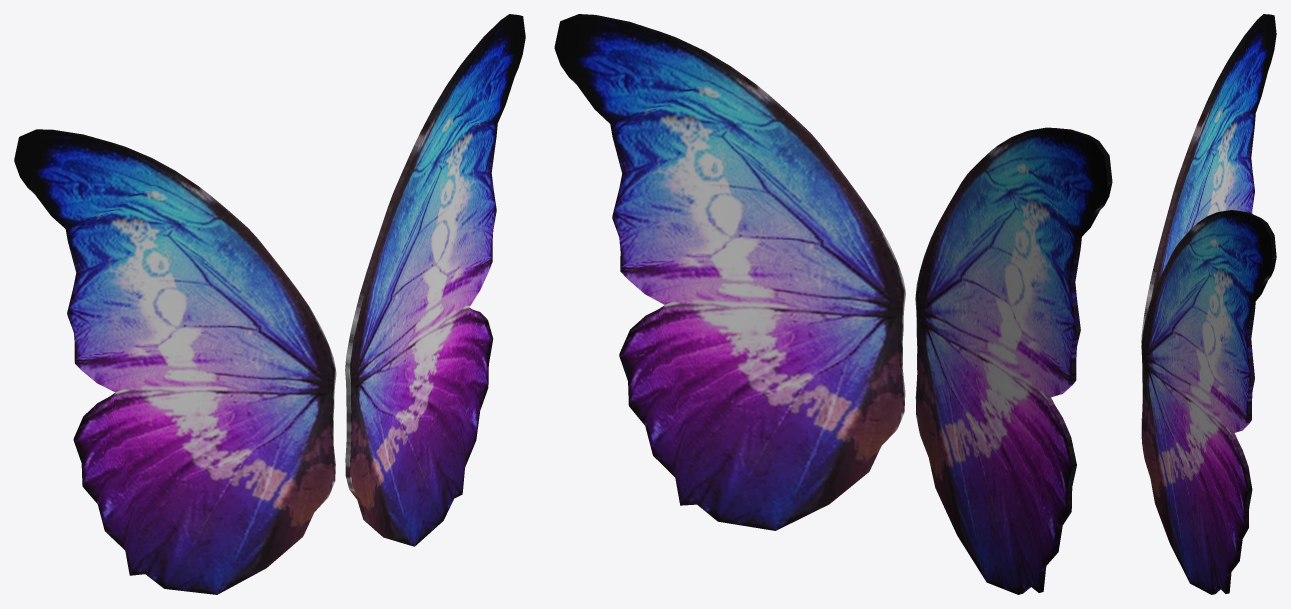
Rendered from Butterfly_Wings_01.fbx.
3 renders of one model, left to right at view 1: azimuth 30°, elevation 25°; view 2: azimuth 150°, elevation 25°; view 3: azimuth 270°, elevation 25°, orthographic. The views are drawn at different scales.
Parts seen in each view (by area): view 1: ButterflyWings; view 2: ButterflyWings; view 3: ButterflyWings.
Part boxes in pixels (<box>): ButterflyWings: <box>14,14,525,594</box>; ButterflyWings: <box>554,14,1112,594</box>; ButterflyWings: <box>1141,14,1276,594</box>.
Bounding box in the file's own units: 9.91 × 8.66 × 2.52.
1 material, 1 textured.
